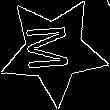M_E: (28, 26, 80, 75)
